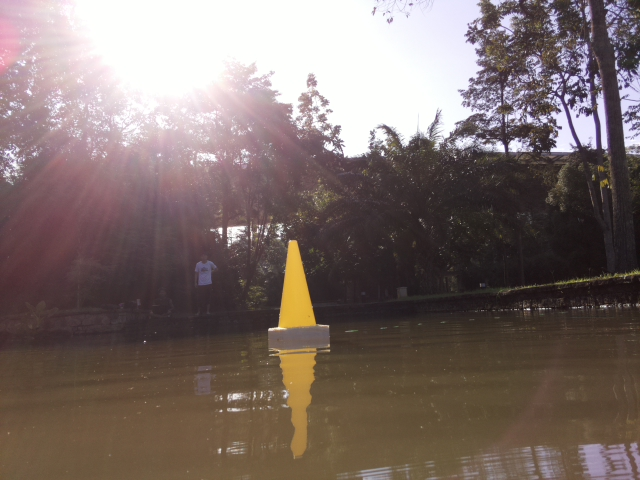checkpoint: (266, 237, 331, 351)
